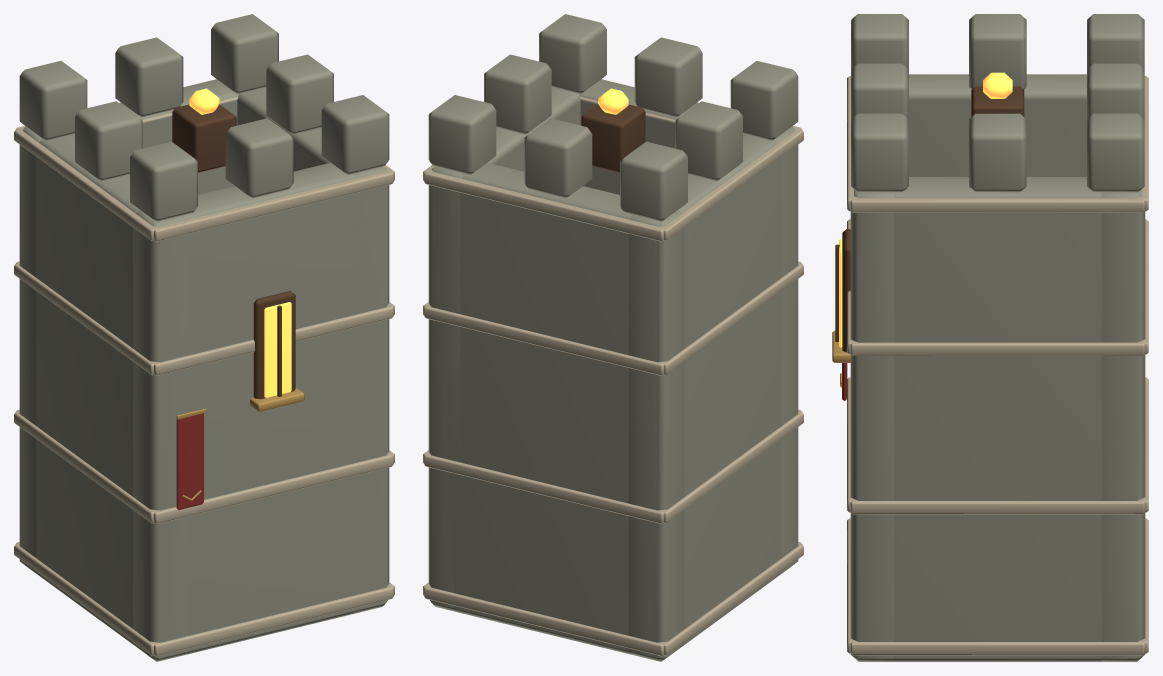
Rendered from architecture-tower.glb.
3 views of the same model, side by side, from view 1: azimuth 30°, elevation 25°; view 2: azimuth 150°, elevation 25°; view 3: azimuth 270°, elevation 25° (orthographic). The views are drawn at different scales.
Visible parts, largest first — view 1: architecture-tower-exterior; view 2: architecture-tower-exterior; view 3: architecture-tower-exterior.
Boxes of the visible parts, <box> form: architecture-tower-exterior: <box>14,14,394,661</box>; architecture-tower-exterior: <box>423,14,803,661</box>; architecture-tower-exterior: <box>832,14,1148,661</box>.
Bounding box in the file's own units: 2.56 × 4.96 × 2.68.
